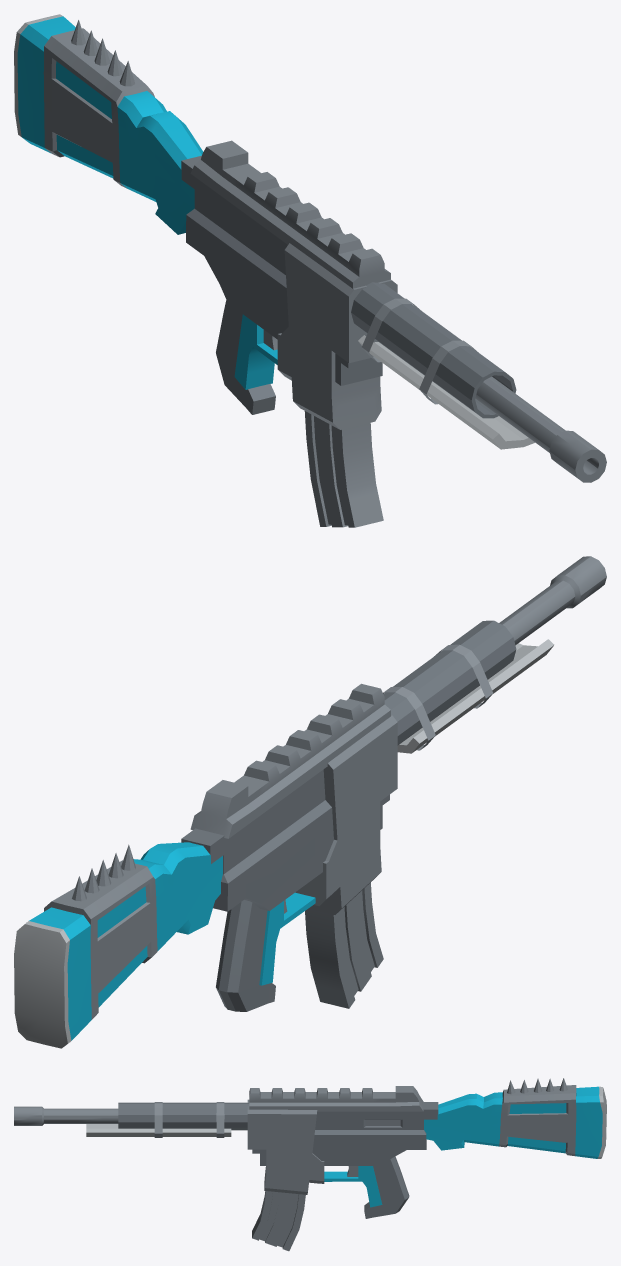
File: weapon_rifle-BWVR-PMu.glb
3 renders of one model, top to bottom at view 1: azimuth 30°, elevation 25°; view 2: azimuth 150°, elevation 25°; view 3: azimuth 270°, elevation 25°, orthographic. The views are drawn at different scales.
Parts seen in each view (by area): view 1: Rifle; view 2: Rifle; view 3: Rifle.
Part boxes in pixels (x1,y1,x2,y2): Rifle: (14,14,606,527); Rifle: (14,556,606,1048); Rifle: (14,1078,606,1251).
Bounding box in the file's own units: 0.1144 × 0.5181 × 1.64.
